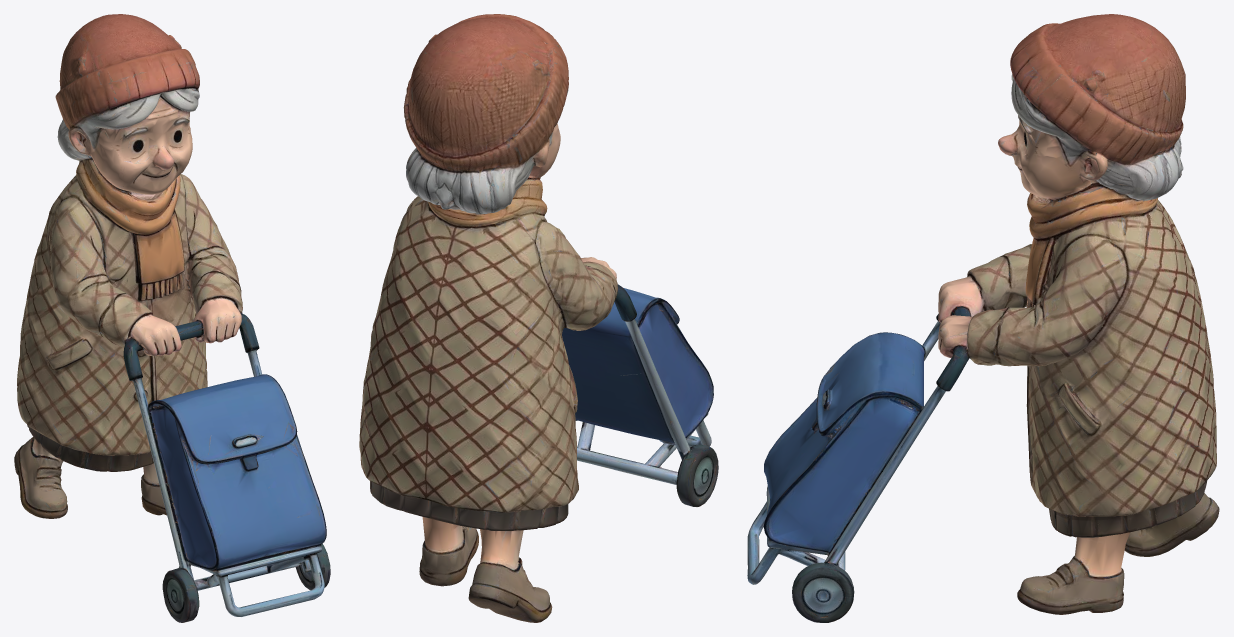
The model's file is getkong-ped5.glb.
The picture shows the model from 3 angles, left to right: view 1: azimuth 30°, elevation 25°; view 2: azimuth 150°, elevation 25°; view 3: azimuth 270°, elevation 25°; orthographic projection. The views are drawn at different scales.
Parts seen in each view (by area): view 1: Mesh_0; view 2: Mesh_0; view 3: Mesh_0.
Part boxes in pixels (<box>): Mesh_0: <box>14,14,330,622</box>; Mesh_0: <box>359,14,718,622</box>; Mesh_0: <box>747,14,1219,622</box>.
Size of the model in its own units: 0.7005 by 1.9 by 1.44.
1 material, 1 textured.
